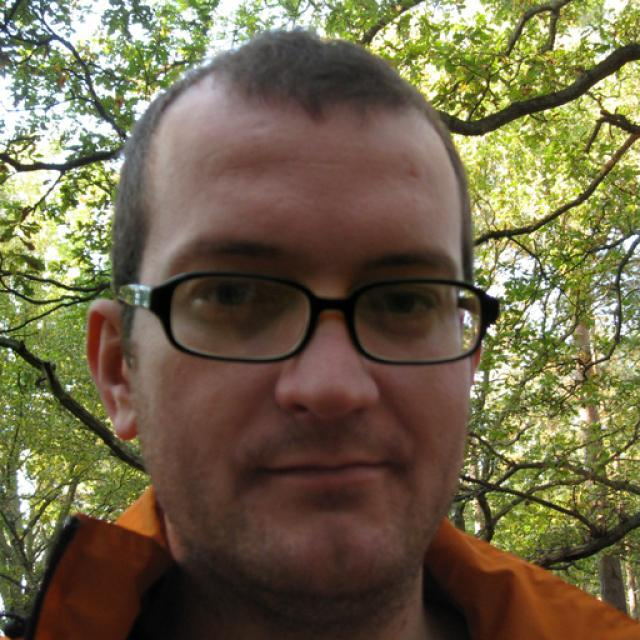content: (138, 127, 470, 594)
